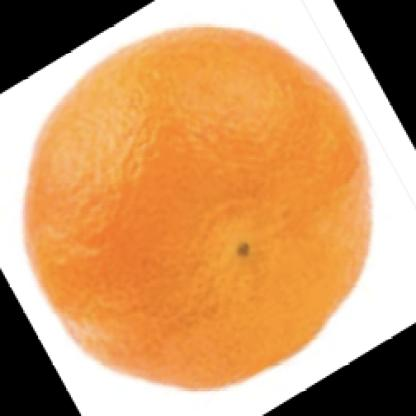fresh: (23, 28, 373, 399)
